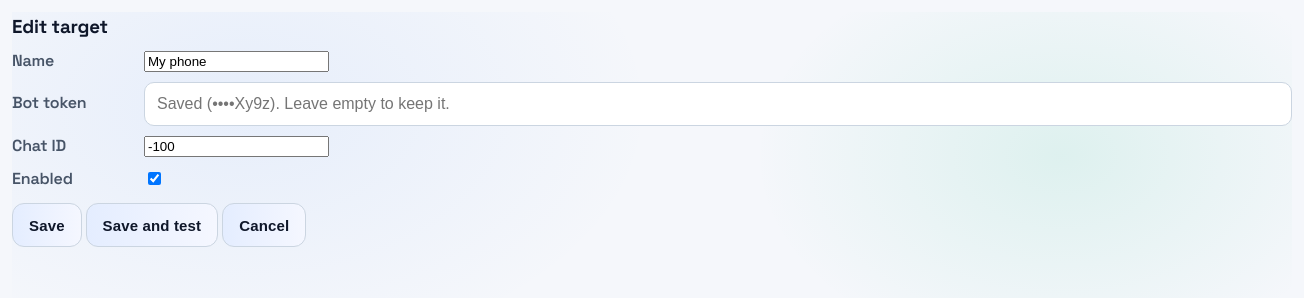
Test: TargetForm › an edit with an empty token field sends no token
Expected: the password field labelled "Bot token" is empty, x1=144 y1=82 x2=1292 y2=126
Replace the text in the field labelled "Name" with "Renamed" at coordinates (236, 61), box x1=144 y1=51 x2=329 y2=72
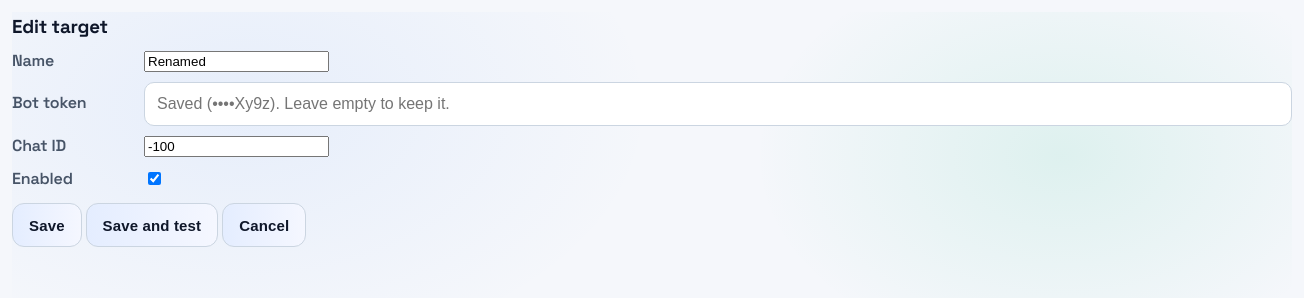
Click the button "Save".
click(47, 225)  # box x1=12 y1=203 x2=82 y2=247
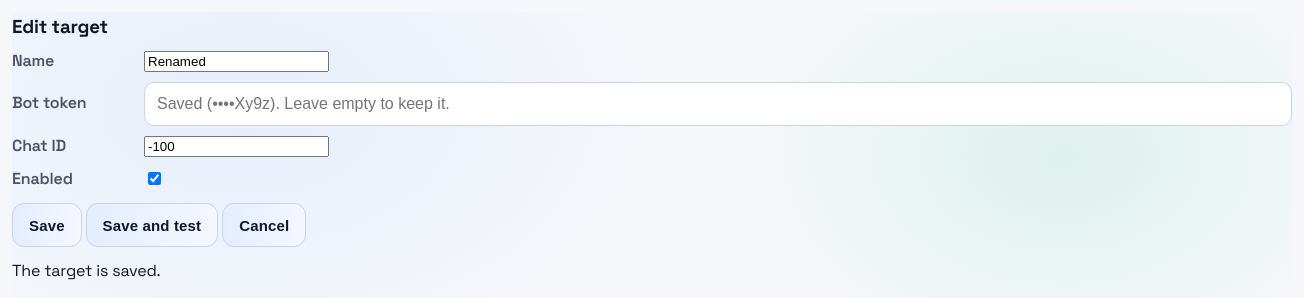
Result: the message reads "The target is saved." at x1=12 y1=260 x2=160 y2=281
